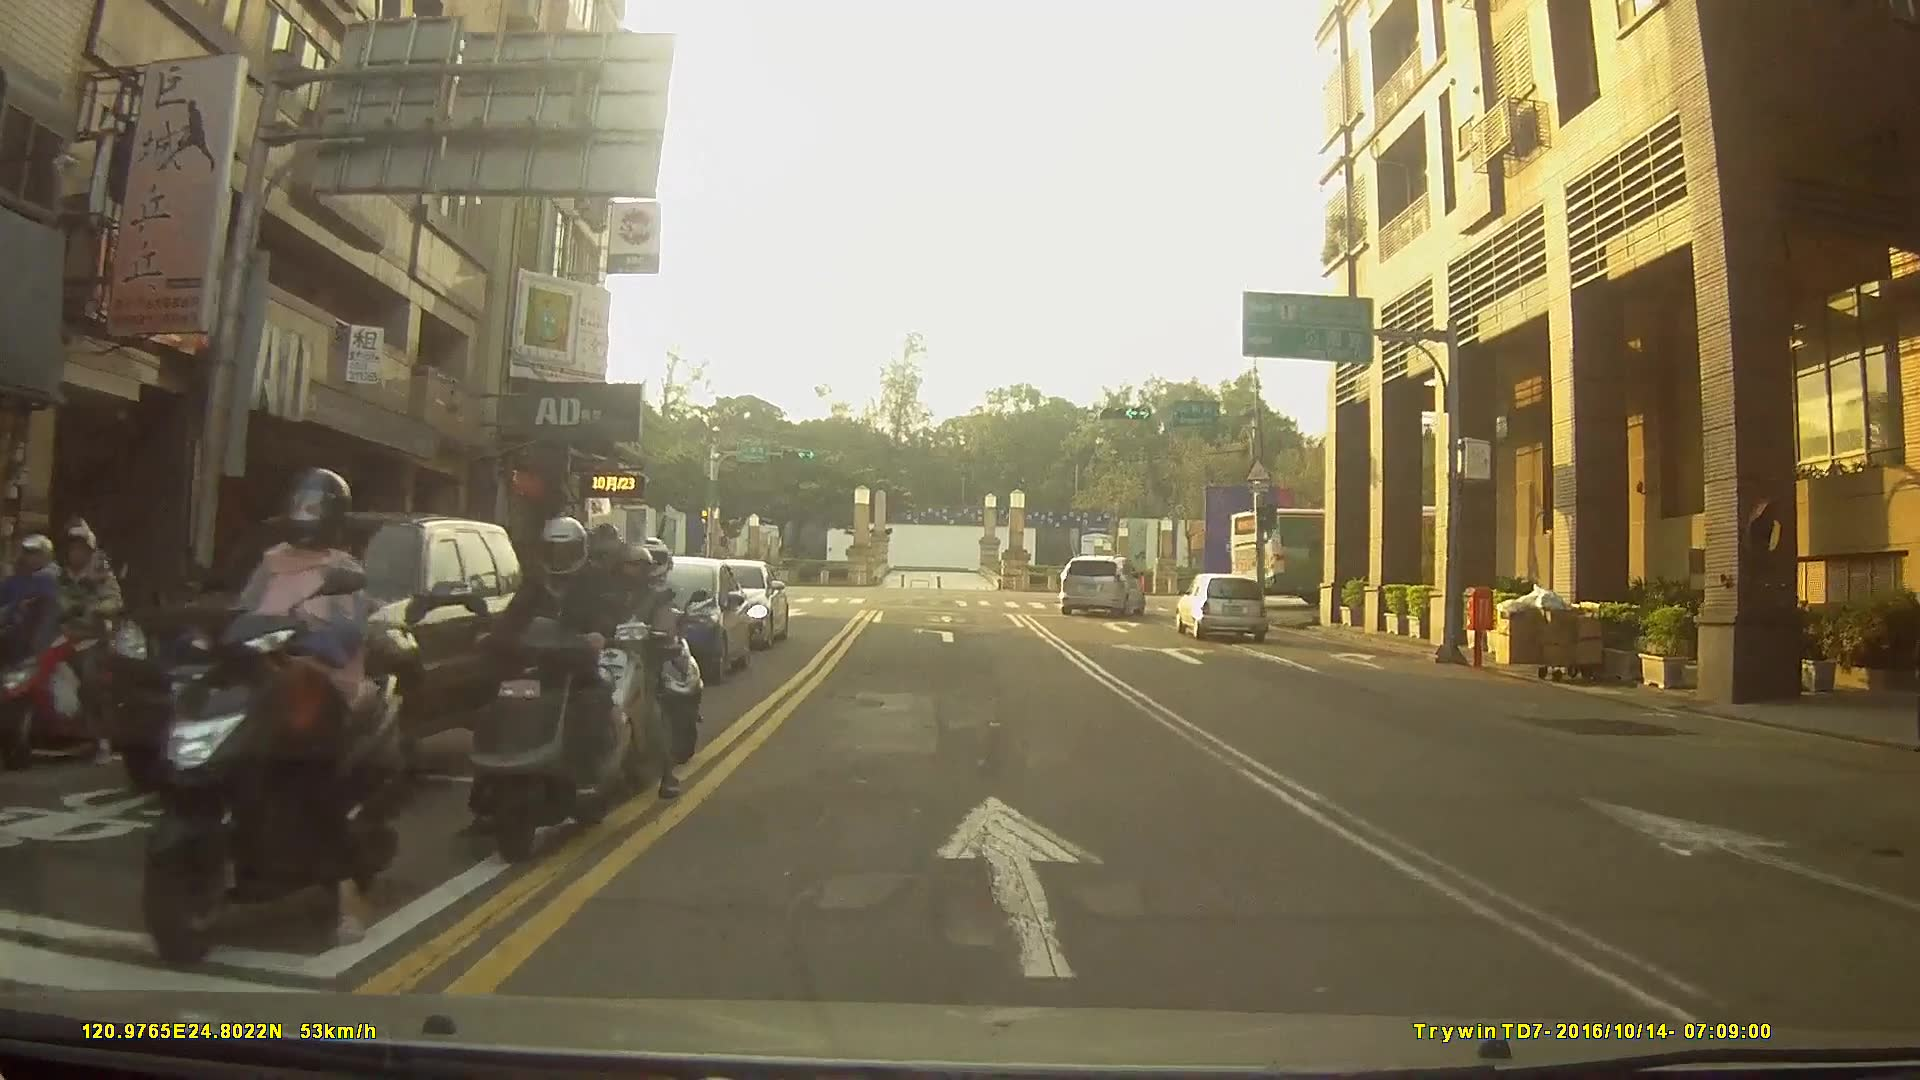rider: (147, 472, 405, 961), (463, 523, 636, 871), (1, 516, 147, 772)
vehicle: (102, 514, 527, 804), (1229, 508, 1495, 603), (1172, 570, 1269, 642), (1058, 554, 1142, 617)
